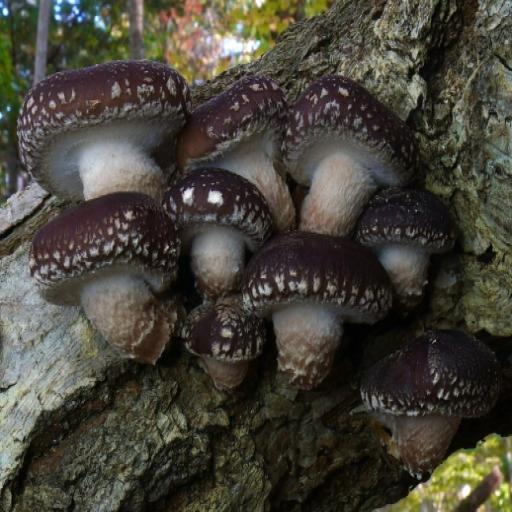Shiitake Mushroom: (3, 49, 466, 405), (342, 308, 512, 480)
